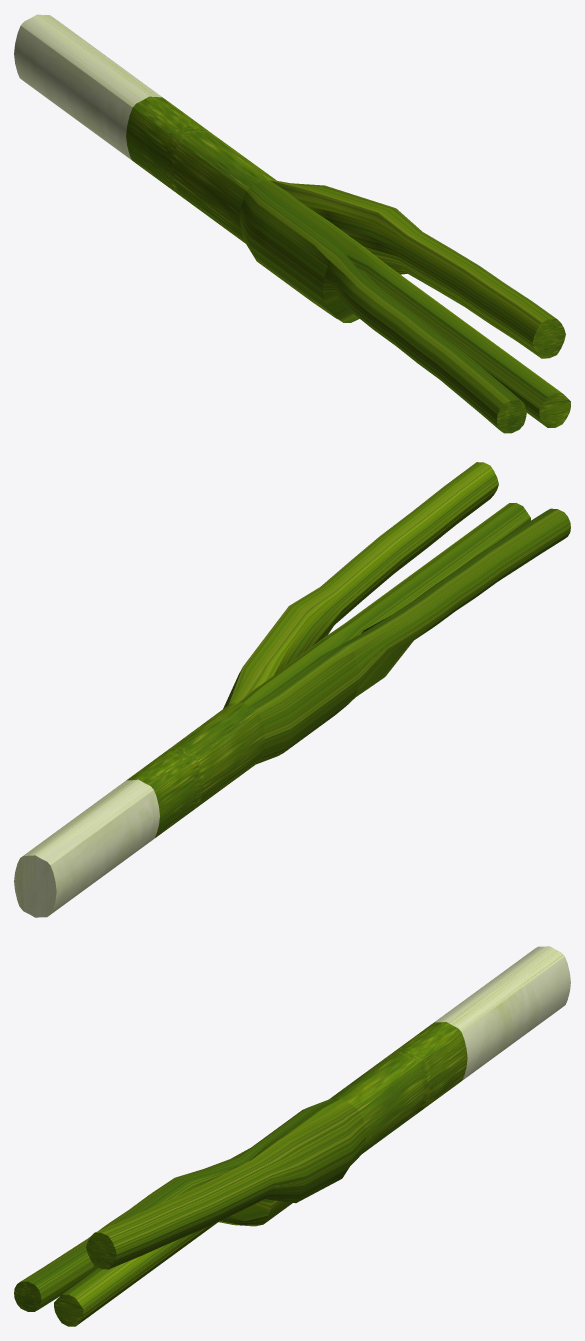
File: greenOnionModel.fbx
3 views of the same model, one above another, from view 1: azimuth 30°, elevation 25°; view 2: azimuth 150°, elevation 25°; view 3: azimuth 330°, elevation 25° (orthographic). The views are drawn at different scales.
Parts seen in each view (by area): view 1: greenOnion2; view 2: greenOnion2; view 3: greenOnion2.
Boxes of the visible parts, x1,y1,x2,y2 form: greenOnion2: (14, 14, 570, 433); greenOnion2: (14, 462, 570, 917); greenOnion2: (14, 946, 570, 1326).
Bounding box in the file's own units: 0.3619 × 0.3918 × 2.87.
2 materials, 2 textured.
